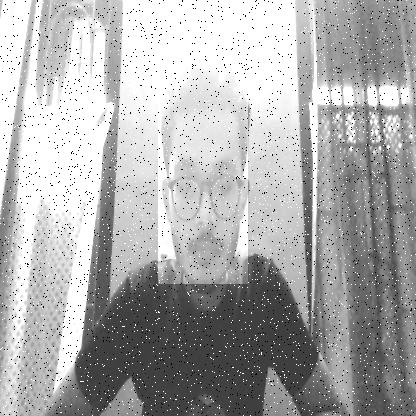Normal: (158, 50, 248, 284)
